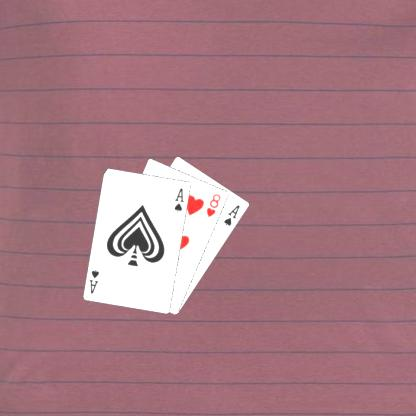8H: (206, 191, 224, 219)
AS: (223, 202, 243, 228), (89, 266, 102, 295), (174, 185, 187, 213)
